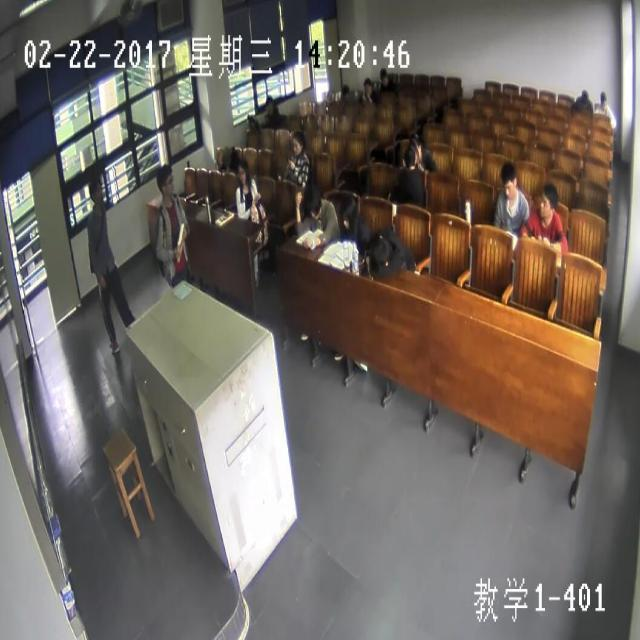no_helmet: (368, 229, 393, 272), (153, 159, 176, 201), (337, 188, 357, 234), (304, 181, 324, 221), (537, 178, 557, 217), (500, 162, 517, 198), (215, 141, 232, 167), (88, 177, 103, 204), (290, 127, 305, 154), (401, 142, 416, 169), (409, 134, 424, 159), (236, 158, 248, 185), (264, 91, 276, 114), (362, 73, 372, 98), (598, 88, 608, 111), (380, 65, 388, 83), (581, 87, 588, 101), (342, 81, 348, 97)
